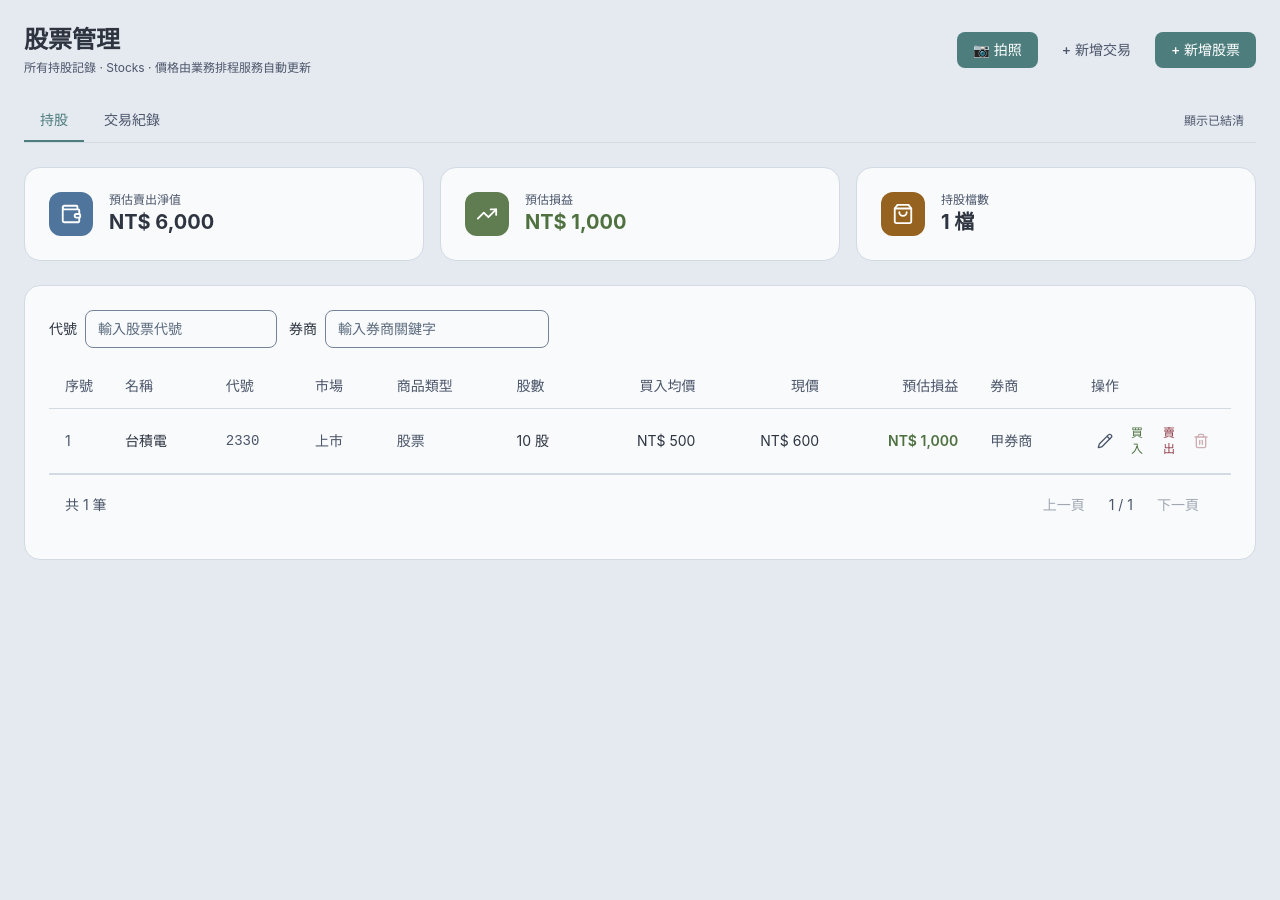
Scenario: StocksPage ledger contract › passes loading stock options status to the transaction modal
Click the button with test id "new-stock-transaction".
click(1096, 50)  # box 1046,32 -> 1147,68
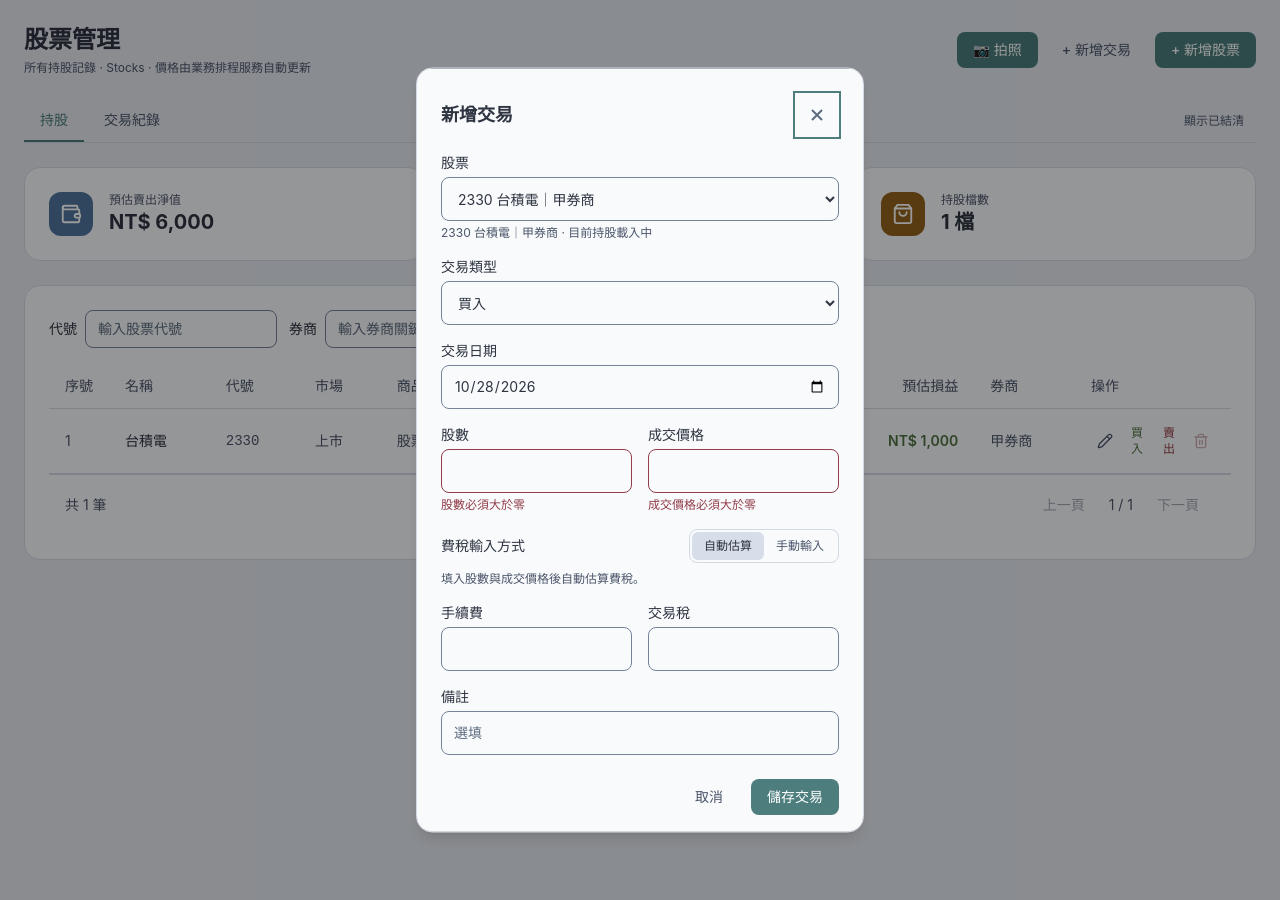
Expected: the text "目前持股載入中" is shown, 562,224 -> 652,240
